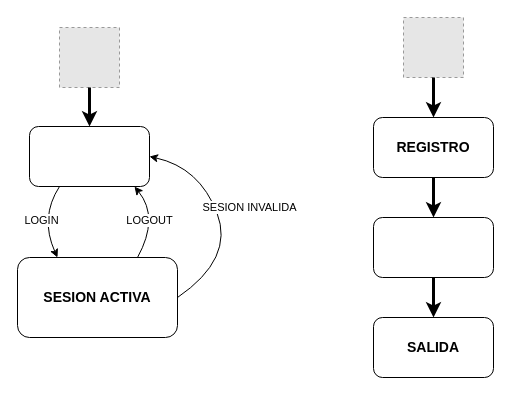
This 511x395 diagram has some shape labels left out. Grey dashed boxes stand in for pictures. The shapes that lost their labels are listed below. From the top down, each one's box as (x1, y1, x2, y2) in pixels, then its label:
(28, 126, 150, 186): SIN SESION
(372, 216, 494, 278): ENTRADA
